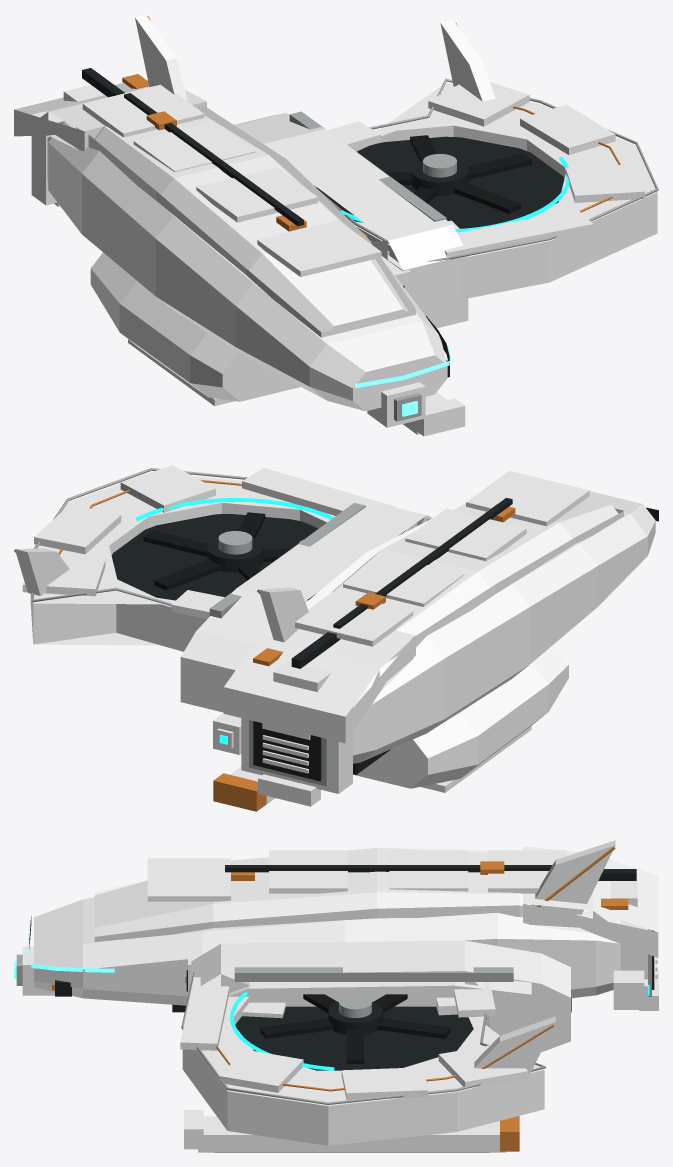
The model's file is morrowgear-family-a-field-v5.glb.
3 renders of one model, top to bottom at view 1: azimuth 30°, elevation 25°; view 2: azimuth 150°, elevation 25°; view 3: azimuth 270°, elevation 25°, orthographic. The views are drawn at different scales.
Parts seen in each view (by area): view 1: F01_Fuselage, F02_UpperArmor, W02_DuctWing.R, FLD_CarrierPod.R, FLD_MissionBay, R02_InnerWell.R, F02_TopPanel_0, F02_TopPanel_1, FLD_RearDeck, F02_TopPanel_3, W02_ArmorPanel_0.R, F02_TopPanel_2 (+17 smaller); view 2: F01_Fuselage, W02_DuctWing.R, FLD_CarrierPod.R, FLD_RearDeck, F02_UpperArmor, FLD_MissionBay, R02_InnerWell.R, F02_TopPanel_0, F02_TopPanel_3, F02_TopPanel_1, F02_TopPanel_2, W02_ArmorPanel_0.R (+23 smaller); view 3: F01_Fuselage, W02_DuctWing.R, F02_UpperArmor, FLD_CarrierPod.R, R02_InnerWell.R, FLD_PodArmor.R, FLD_RearDeck, FG_LoadSkid.R, F02_TopPanel_0, FLD_PodRail.R, F02_TopPanel_1, T02_CenterFin.R (+23 smaller).
Boxes of the visible parts, x1=… form: F01_Fuselage: x1=47, y1=121, x2=447, y2=411; F02_UpperArmor: x1=75, y1=106, x2=415, y2=337; W02_DuctWing.R: x1=311, y1=82, x2=657, y2=299; FLD_CarrierPod.R: x1=234, y1=113, x2=468, y2=328; FLD_MissionBay: x1=90, y1=252, x2=300, y2=401; R02_InnerWell.R: x1=316, y1=136, x2=564, y2=228; F02_TopPanel_0: x1=257, y1=220, x2=381, y2=276; F02_TopPanel_1: x1=196, y1=167, x2=318, y2=222; FLD_RearDeck: x1=14, y1=80, x2=206, y2=150; F02_TopPanel_3: x1=82, y1=84, x2=204, y2=137; W02_ArmorPanel_0.R: x1=444, y1=209, x2=593, y2=256; F02_TopPanel_2: x1=133, y1=121, x2=255, y2=171; F01_Fuselage: x1=353, y1=491, x2=655, y2=763; W02_DuctWing.R: x1=30, y1=476, x2=416, y2=651; FLD_CarrierPod.R: x1=180, y1=499, x2=432, y2=712; FLD_RearDeck: x1=223, y1=628, x2=415, y2=743; F02_UpperArmor: x1=305, y1=498, x2=623, y2=660; FLD_MissionBay: x1=353, y1=645, x2=568, y2=788; R02_InnerWell.R: x1=111, y1=514, x2=318, y2=600; F02_TopPanel_0: x1=466, y1=470, x2=589, y2=526; F02_TopPanel_3: x1=295, y1=591, x2=413, y2=646; F02_TopPanel_1: x1=405, y1=508, x2=526, y2=561; F02_TopPanel_2: x1=343, y1=554, x2=464, y2=606; W02_ArmorPanel_0.R: x1=242, y1=468, x2=395, y2=515; F01_Fuselage: x1=34, y1=897, x2=620, y2=1005; W02_DuctWing.R: x1=182, y1=974, x2=544, y2=1145; F02_UpperArmor: x1=94, y1=847, x2=588, y2=941; FLD_CarrierPod.R: x1=191, y1=940, x2=570, y2=1052; R02_InnerWell.R: x1=235, y1=1006, x2=473, y2=1070; FLD_PodArmor.R: x1=228, y1=980, x2=531, y2=1030; FLD_RearDeck: x1=523, y1=846, x2=658, y2=957; FG_LoadSkid.R: x1=198, y1=1116, x2=506, y2=1152; F02_TopPanel_0: x1=147, y1=858, x2=230, y2=901; FLD_PodRail.R: x1=234, y1=967, x2=513, y2=981; F02_TopPanel_1: x1=269, y1=850, x2=347, y2=893; T02_CenterFin.R: x1=531, y1=840, x2=615, y2=914.
Size of what is drawn, in the model's own units: 4.8 by 2.69 by 5.9.
